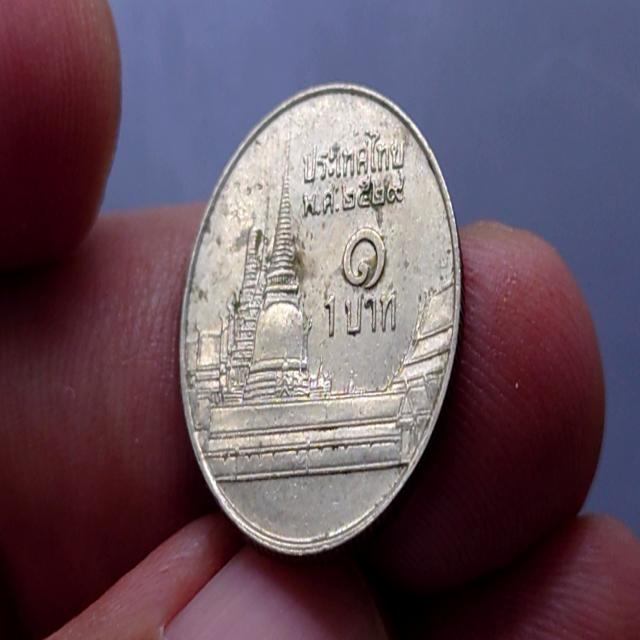1 Bath: (177, 68, 476, 567)
